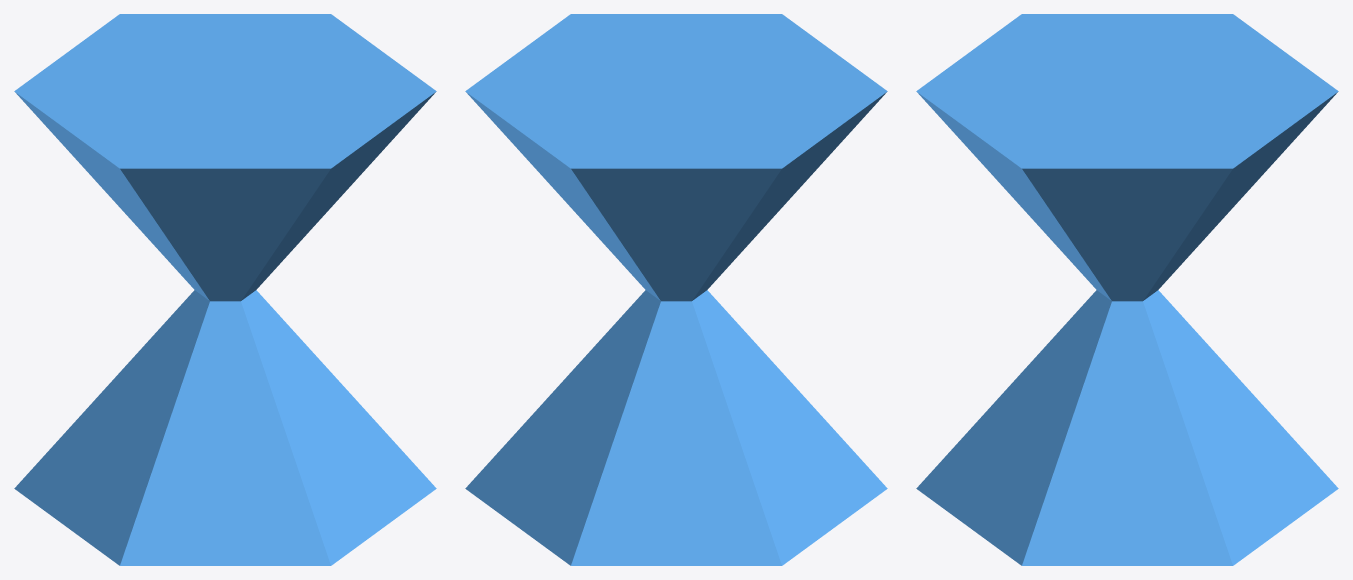
The model's file is SlowTime.fbx.
3 renders of one model, left to right at view 1: azimuth 30°, elevation 25°; view 2: azimuth 150°, elevation 25°; view 3: azimuth 270°, elevation 25°, orthographic.
Visible parts, largest first — view 1: SlowTime; view 2: SlowTime; view 3: SlowTime.
Part boxes in pixels (left/top/right/bottom): SlowTime: left=14, top=14, right=436, bottom=565; SlowTime: left=465, top=14, right=887, bottom=565; SlowTime: left=916, top=14, right=1338, bottom=565.
Size of the model in its own units: 92.92 by 111 by 107.
